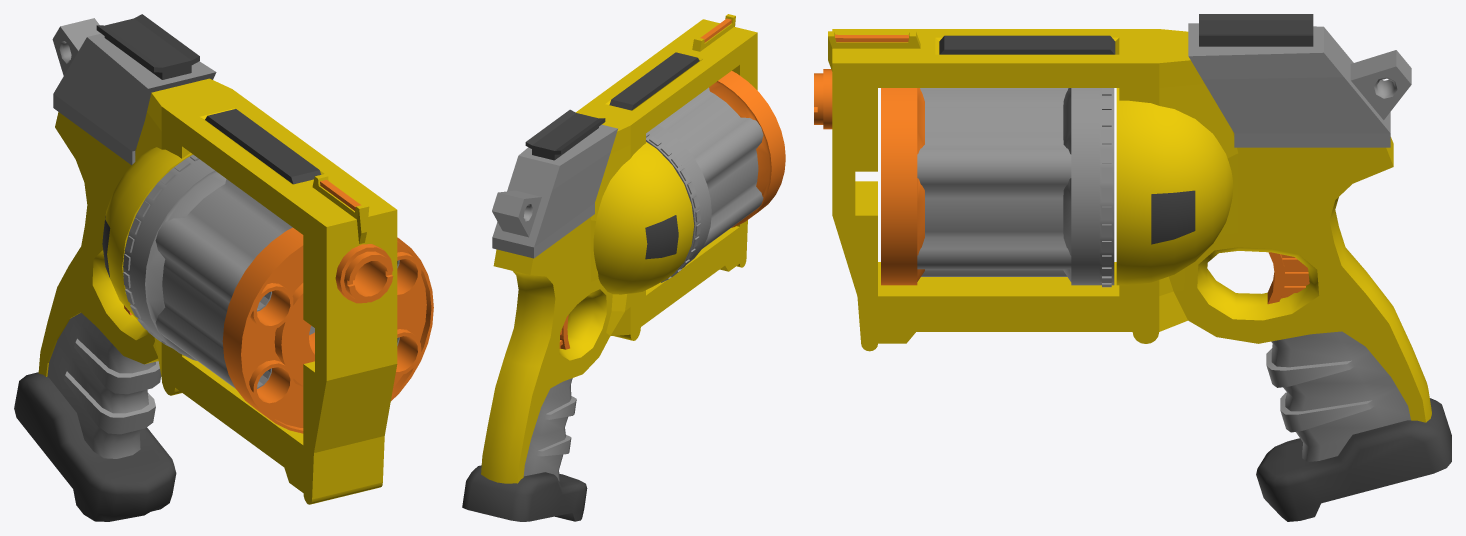
Rendered from PlzNerf_Gun.fbx.
3 views of the same model, side by side, from view 1: azimuth 30°, elevation 25°; view 2: azimuth 150°, elevation 25°; view 3: azimuth 270°, elevation 25° (orthographic). The views are drawn at different scales.
Visible parts, largest first — view 1: PlzNerf; view 2: PlzNerf; view 3: PlzNerf.
Boxes of the visible parts, <box> form: PlzNerf: <box>14,14,433,521</box>; PlzNerf: <box>462,14,785,521</box>; PlzNerf: <box>814,14,1451,521</box>.
Bounding box in the file's own units: 32.72 × 77.35 × 93.1.
